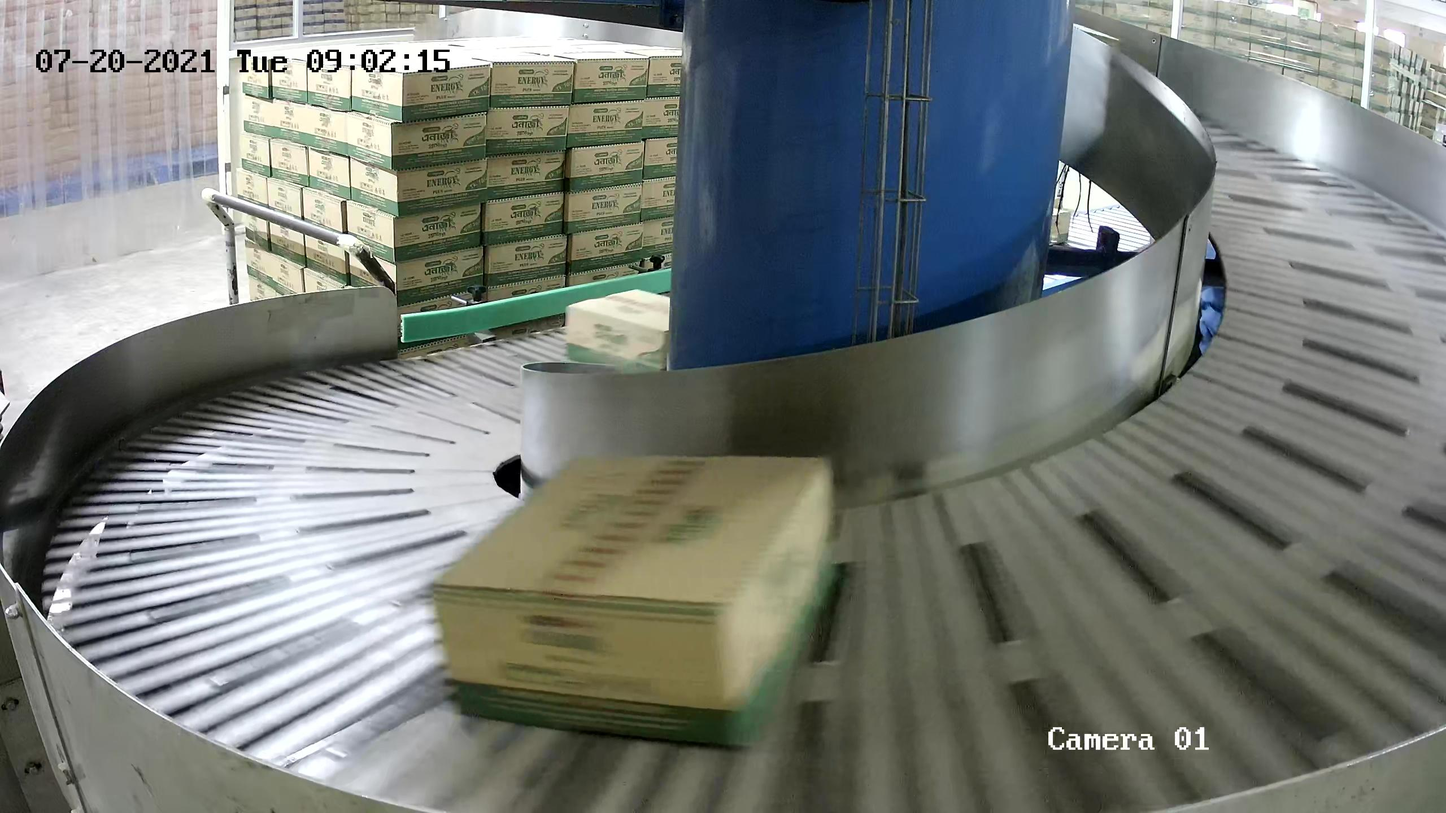Box: (426, 451, 835, 757), (564, 289, 718, 387)
